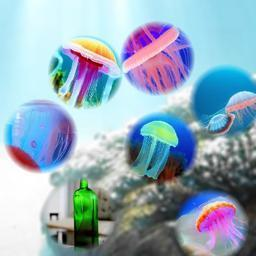not an animal: (71, 176, 105, 248)
